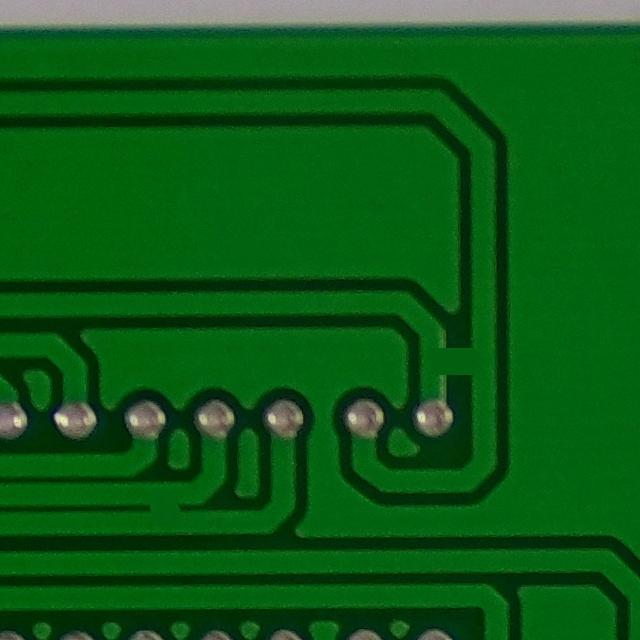short: (410, 314, 505, 398), (125, 476, 198, 537)
